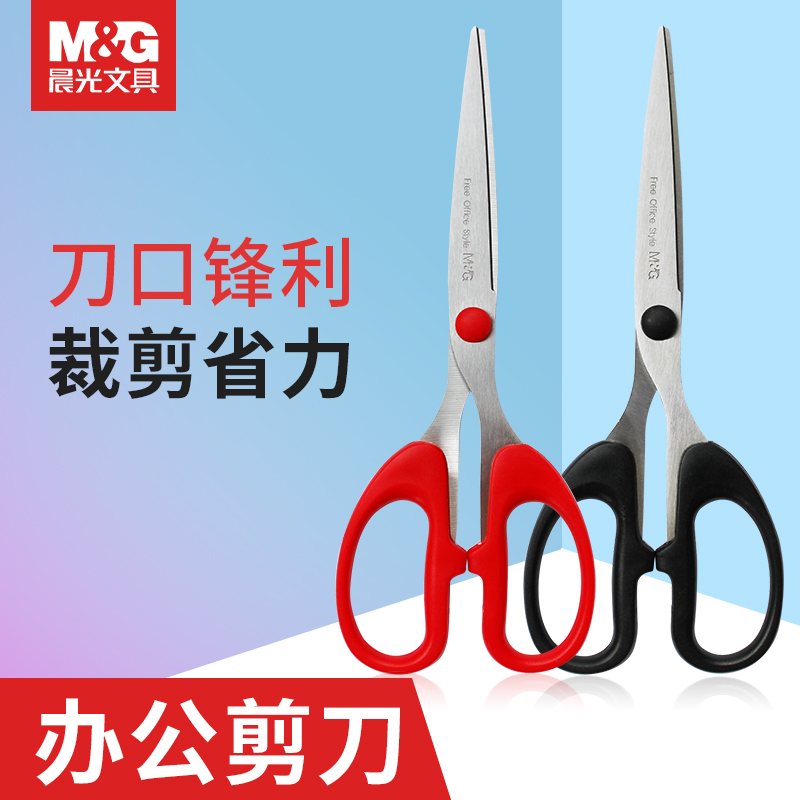scissors: (325, 20, 601, 684), (522, 21, 790, 684)
